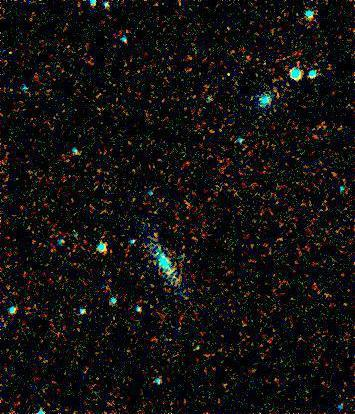star: (140, 226, 170, 256)
